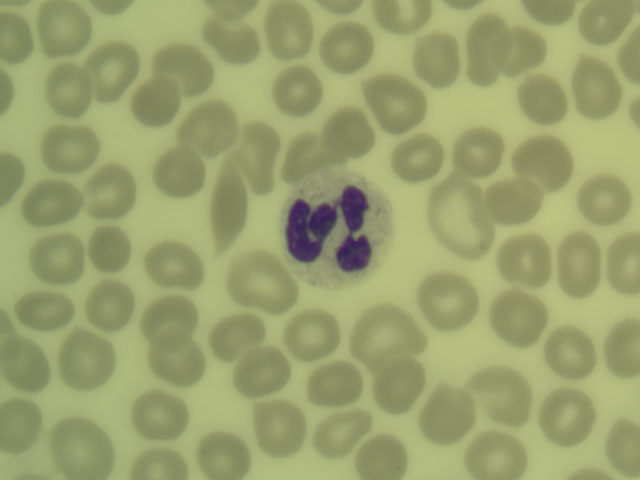RBC: (431, 183, 493, 260), (227, 251, 298, 313), (349, 308, 430, 359), (418, 267, 481, 331), (49, 418, 113, 479), (363, 75, 427, 134), (208, 157, 248, 251), (470, 366, 535, 422), (538, 388, 596, 448), (571, 55, 620, 126), (556, 230, 603, 301), (423, 383, 476, 445), (146, 337, 208, 388), (486, 291, 549, 341), (251, 401, 308, 456), (512, 134, 574, 184), (61, 332, 115, 389), (177, 99, 233, 153), (465, 16, 508, 86), (486, 177, 543, 229), (3, 334, 51, 395), (235, 126, 280, 191), (372, 360, 428, 412), (451, 126, 508, 176), (319, 22, 372, 75), (132, 389, 187, 440), (154, 45, 212, 93), (468, 432, 527, 479), (578, 173, 631, 225), (30, 232, 84, 283), (40, 2, 90, 56), (232, 351, 292, 396), (266, 1, 311, 60), (322, 106, 377, 154), (25, 180, 82, 226), (203, 15, 255, 65), (498, 240, 552, 288), (46, 64, 92, 120), (153, 147, 203, 198), (91, 45, 138, 99), (150, 240, 201, 289), (42, 126, 100, 169), (548, 326, 594, 380), (603, 317, 640, 383), (16, 289, 72, 332), (199, 432, 251, 478), (358, 435, 411, 480), (288, 311, 338, 358), (413, 36, 458, 88), (518, 75, 567, 122), (208, 313, 265, 353), (315, 412, 369, 454), (86, 170, 133, 218), (142, 297, 194, 340), (274, 67, 322, 113), (392, 137, 442, 181), (133, 76, 176, 126), (584, 1, 636, 42), (1, 399, 40, 453), (604, 418, 640, 476), (88, 281, 131, 329), (283, 137, 333, 178), (606, 234, 640, 294), (508, 26, 549, 74), (315, 365, 364, 405), (374, 1, 432, 34), (90, 226, 130, 272), (127, 451, 189, 480), (523, 1, 581, 26), (1, 10, 26, 63), (1, 152, 23, 207), (205, 1, 259, 18), (624, 35, 640, 86), (317, 1, 365, 16), (1, 72, 13, 113)
WBC: (281, 174, 391, 280)
